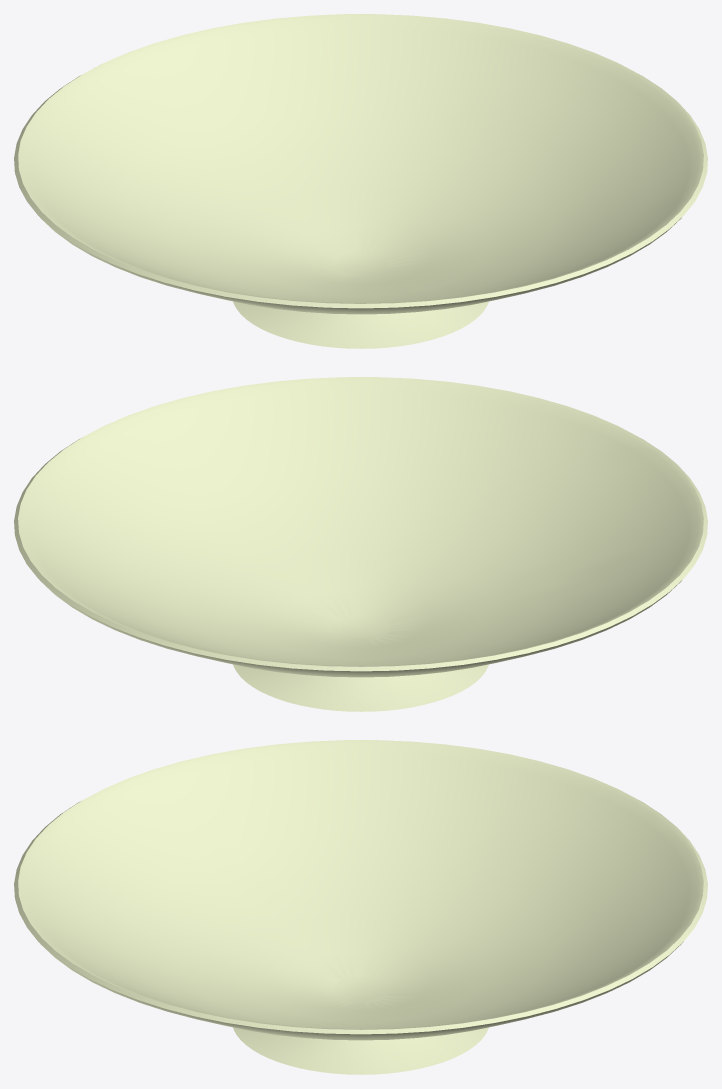
File: Bowl De Frutas.glb
3 renders of one model, top to bottom at view 1: azimuth 30°, elevation 25°; view 2: azimuth 150°, elevation 25°; view 3: azimuth 270°, elevation 25°, orthographic.
Visible parts, largest first — view 1: 5f3e693e-babf-4007-85b2-ef554216a4b7; view 2: 5f3e693e-babf-4007-85b2-ef554216a4b7; view 3: 5f3e693e-babf-4007-85b2-ef554216a4b7.
Boxes of the visible parts, <box> form: 5f3e693e-babf-4007-85b2-ef554216a4b7: <box>14,14,707,348</box>; 5f3e693e-babf-4007-85b2-ef554216a4b7: <box>14,377,707,711</box>; 5f3e693e-babf-4007-85b2-ef554216a4b7: <box>14,740,707,1074</box>.
Bounding box in the file's own units: 0.4517 × 0.0972 × 0.4518.
